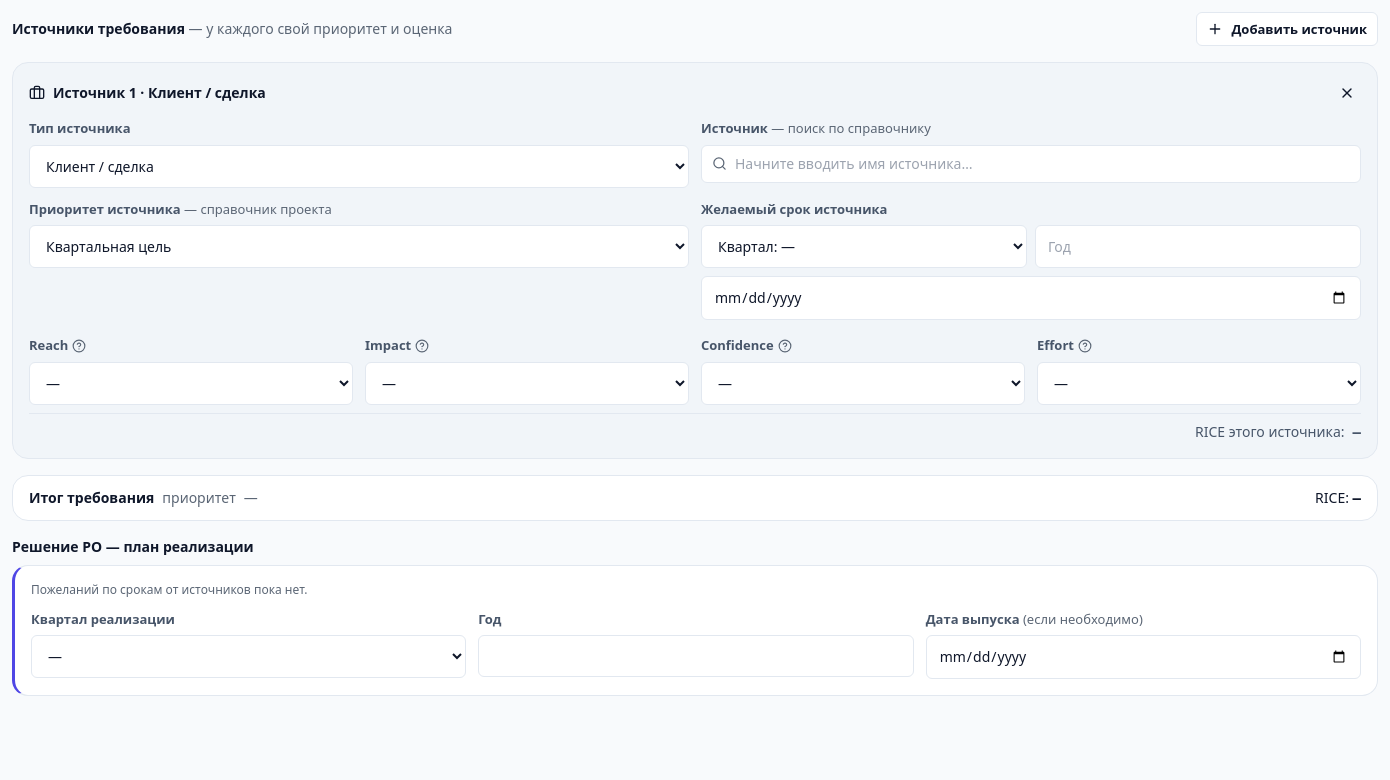
PriorityTab — source cards (todo_19) › shows a dictionary error when auto-collect fails
The image size is (1390, 780).
In the field with test id "src-name-0-input": (1042, 164) left=735, top=146, right=1350, bottom=182, type "Дельта"
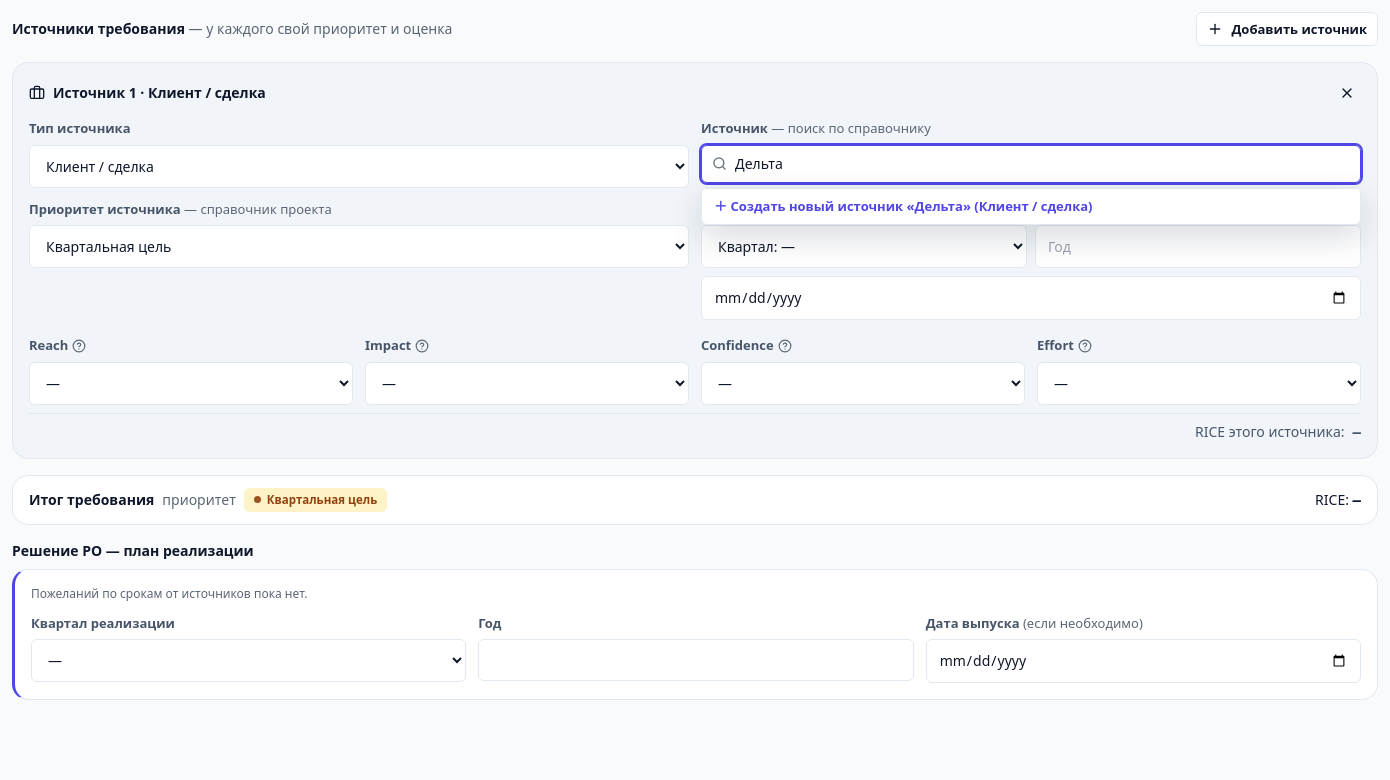
Click the button with test id "src-name-0-create": (1031, 206) left=702, top=188, right=1360, bottom=224
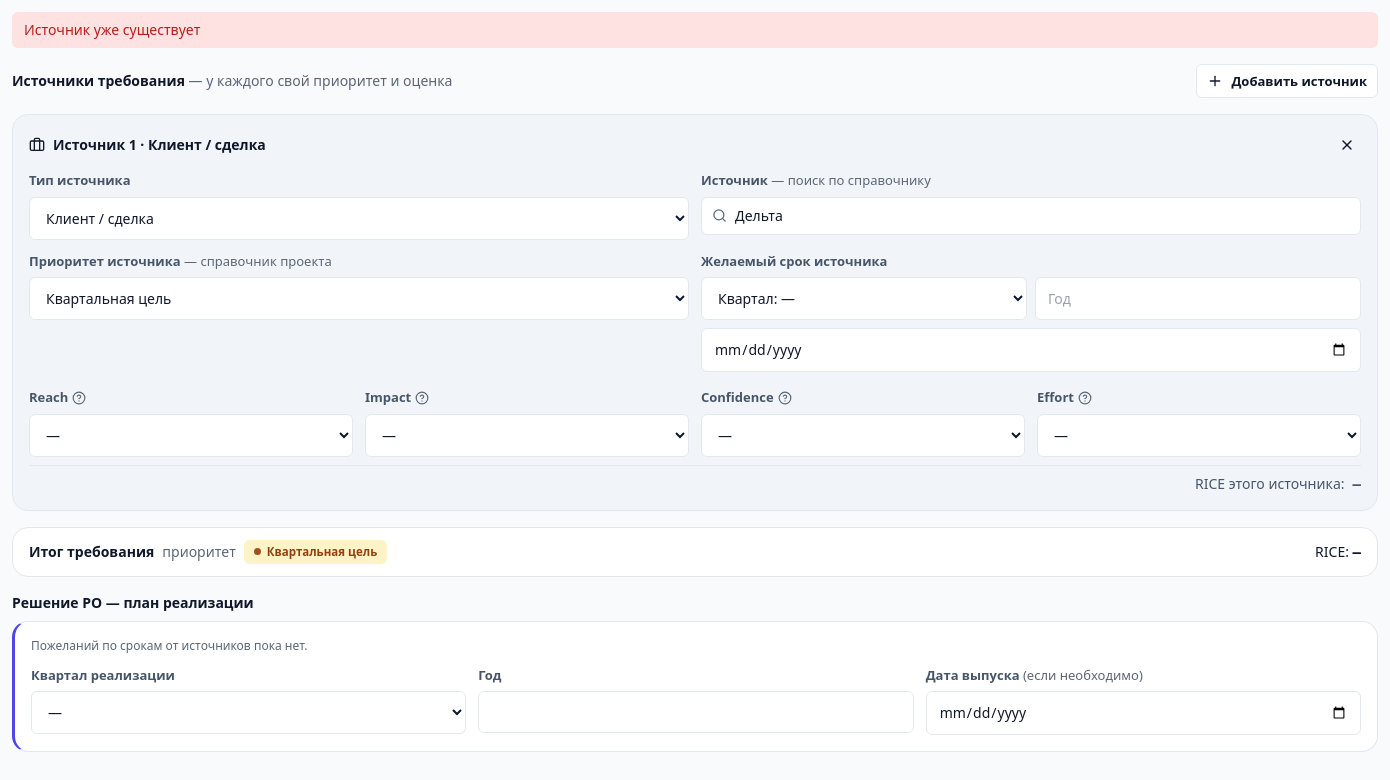
Check: the message with test id "req-priority-dict-error" shows "существует", box left=24, top=20, right=200, bottom=39
